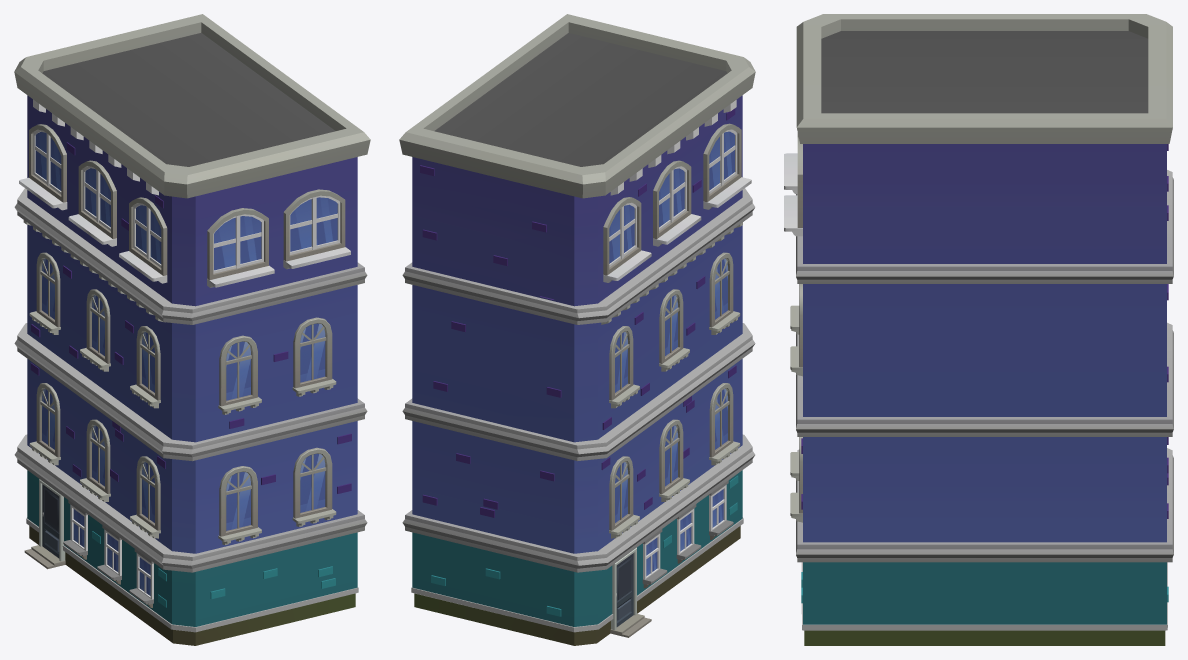
The model's file is Building_18_2_C.fbx.
3 renders of one model, left to right at view 1: azimuth 30°, elevation 25°; view 2: azimuth 150°, elevation 25°; view 3: azimuth 270°, elevation 25°, orthographic. The views are drawn at different scales.
Visible parts, largest first — view 1: Building_18_2_C; view 2: Building_18_2_C; view 3: Building_18_2_C.
Boxes of the visible parts, <box> form: Building_18_2_C: <box>14,14,370,645</box>; Building_18_2_C: <box>399,14,755,645</box>; Building_18_2_C: <box>784,14,1173,645</box>.
Bounding box in the file's own units: 719 × 1594 × 1059.
